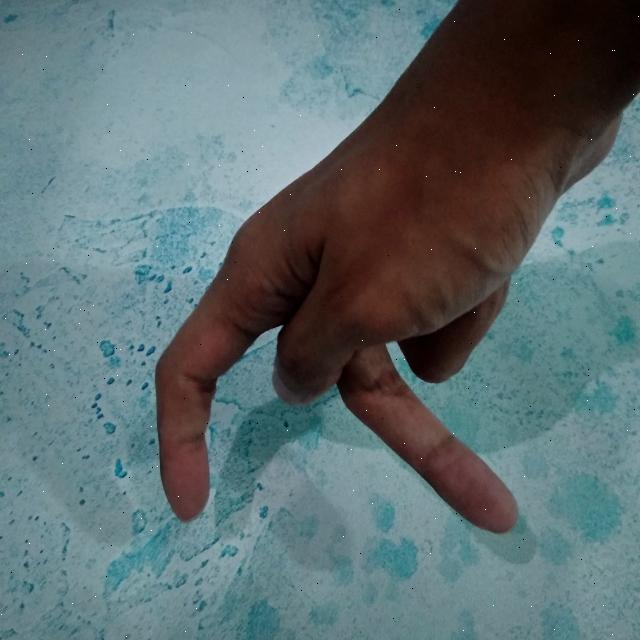P: (139, 0, 640, 551)
